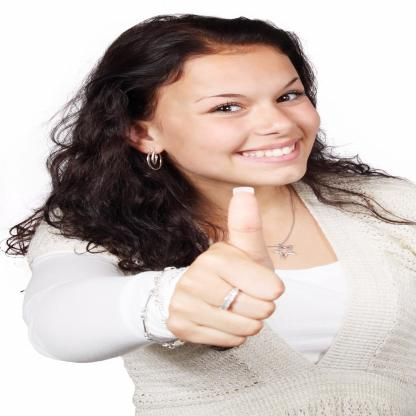Thumbs-Up: (163, 186, 292, 354)
